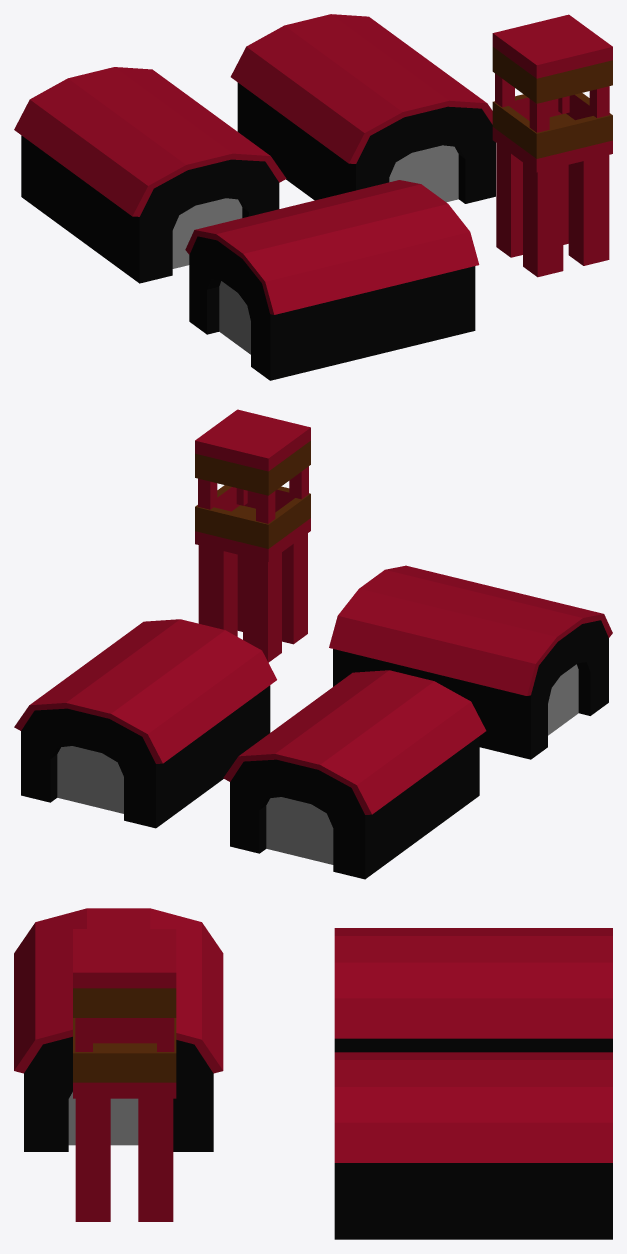
The model's file is barrack.glb.
3 views of the same model, one above another, from view 1: azimuth 30°, elevation 25°; view 2: azimuth 150°, elevation 25°; view 3: azimuth 270°, elevation 25° (orthographic). The views are drawn at different scales.
Parts seen in each view (by area): view 1: Cube.053; view 2: Cube.053; view 3: Cube.053.
Boxes of the visible parts, x1,y1,x2,y2 form: Cube.053: (14,14,612,380); Cube.053: (14,409,612,879); Cube.053: (14,908,612,1239).
Bounding box in the file's own units: 362 × 214 × 431.
